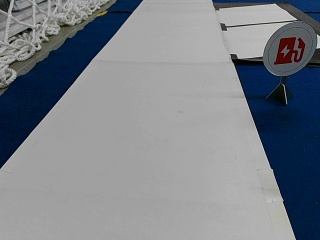battery: (262, 22, 315, 77)
